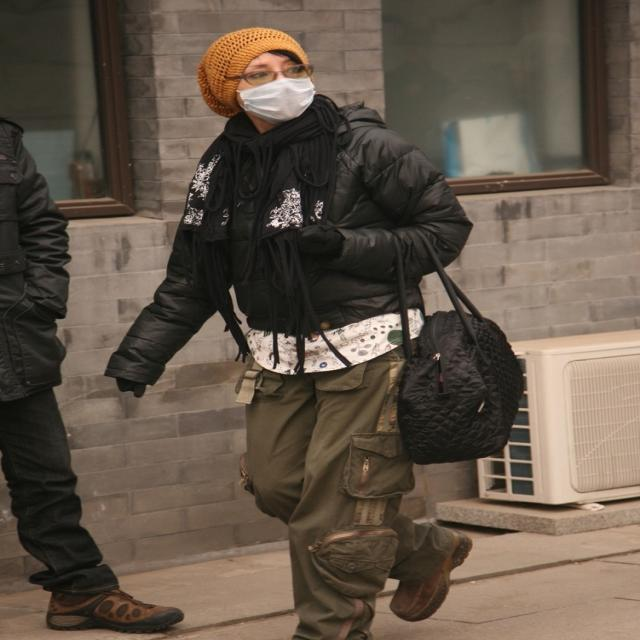mask: (238, 46, 312, 122)
